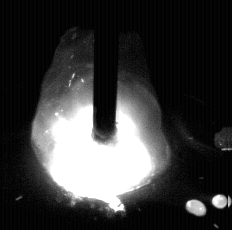arame: (94, 0, 117, 146)
poca: (30, 0, 168, 230)
